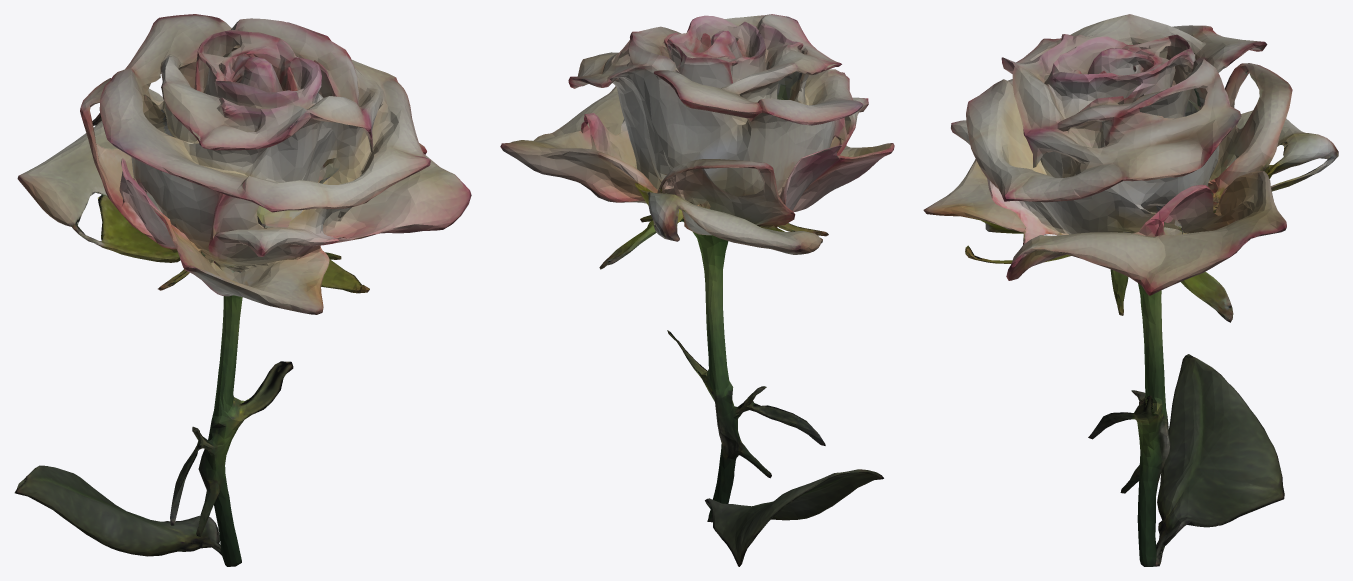
3 renders of one model, left to right at view 1: azimuth 30°, elevation 25°; view 2: azimuth 150°, elevation 25°; view 3: azimuth 270°, elevation 25°, orthographic. The views are drawn at different scales.
Parts seen in each view (by area): view 1: world; view 2: world; view 3: world.
Boxes of the visible parts, <box> form: world: <box>14,14,471,566</box>; world: <box>500,14,894,566</box>; world: <box>923,14,1338,566</box>.
Bounding box in the file's own units: 0.7187 × 0.8973 × 0.6445.
1 material, 1 textured.
